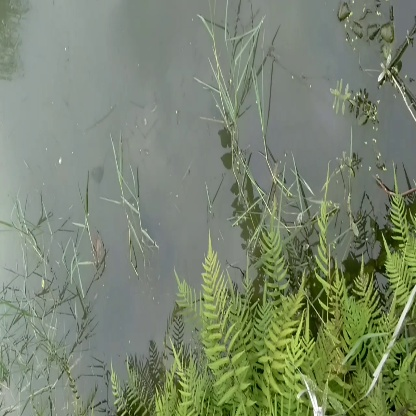grass: (201, 264, 366, 398)
